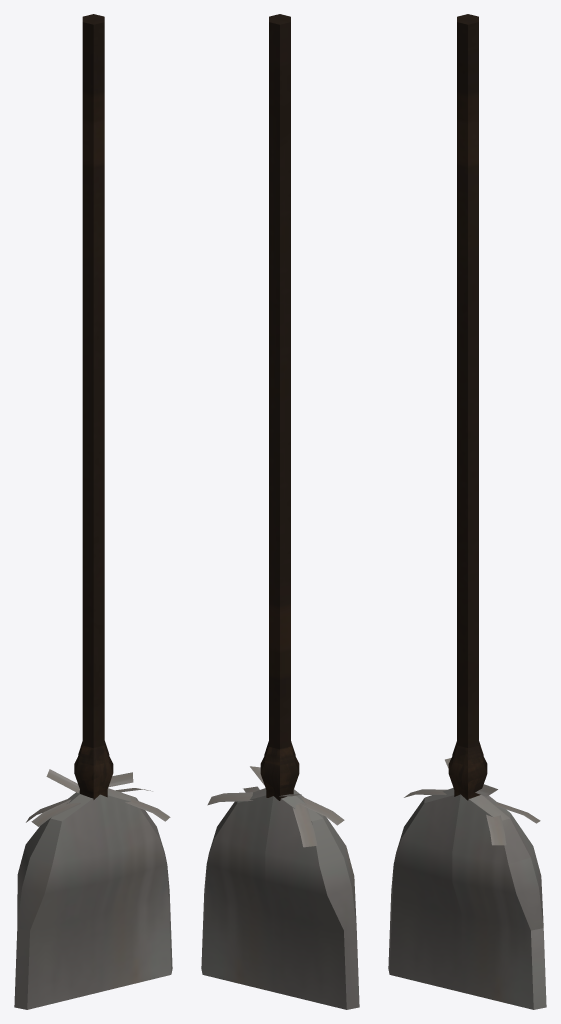
Rendered from Broom.fbx.
The picture shows the model from 3 angles, left to right: view 1: azimuth 30°, elevation 25°; view 2: azimuth 150°, elevation 25°; view 3: azimuth 330°, elevation 25°; orthographic projection.
Visible parts, largest first — view 1: Broom; view 2: Broom; view 3: Broom.
Boxes of the visible parts, x1=… form: Broom: x1=14, y1=14, x2=172, y2=1009; Broom: x1=201, y1=14, x2=359, y2=1009; Broom: x1=388, y1=14, x2=546, y2=1009.
Size of the model in its own units: 0.2009 by 1.18 by 0.0977.
